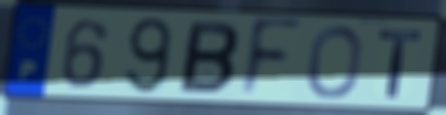6: (60, 17, 110, 92)
9: (121, 16, 175, 97)
B: (175, 19, 242, 97)
F: (237, 15, 306, 103)
O: (304, 23, 365, 101)
T: (376, 28, 423, 101)
